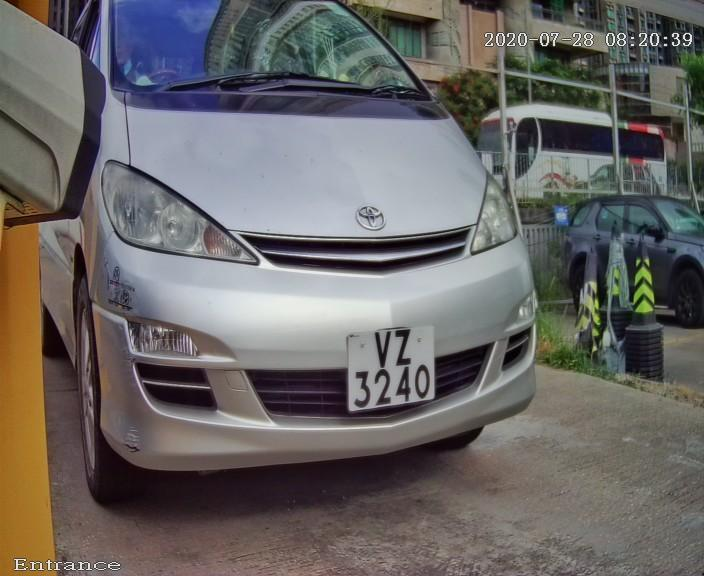privatecar: (38, 3, 588, 512)
